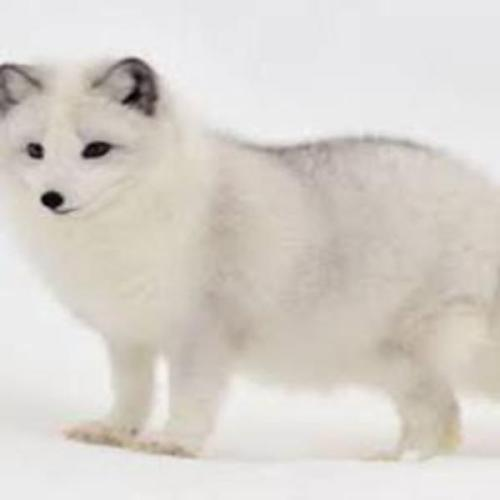arctic_fox-endangered: (0, 57, 499, 463)
